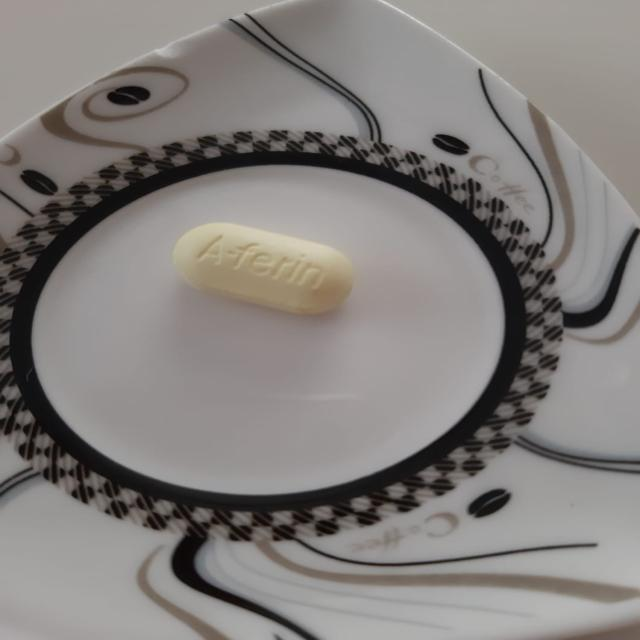pills: (161, 202, 364, 322)
